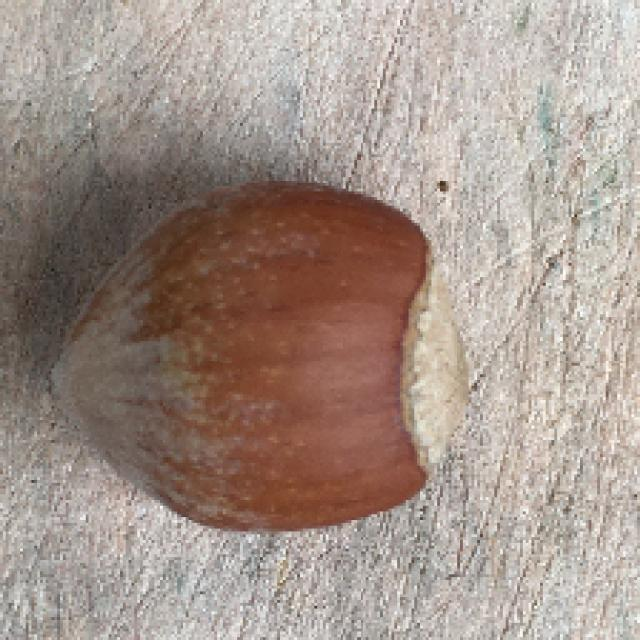qualityHazelnut: (42, 178, 472, 540)
